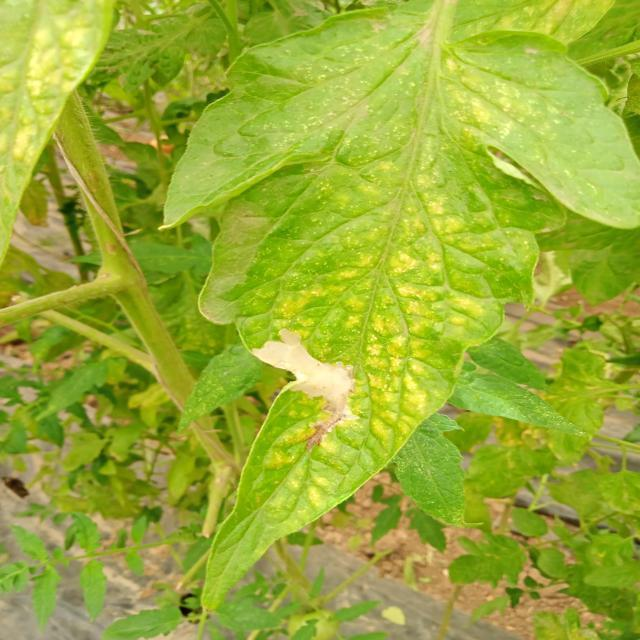Tuta absoluta: (249, 308, 383, 460)
